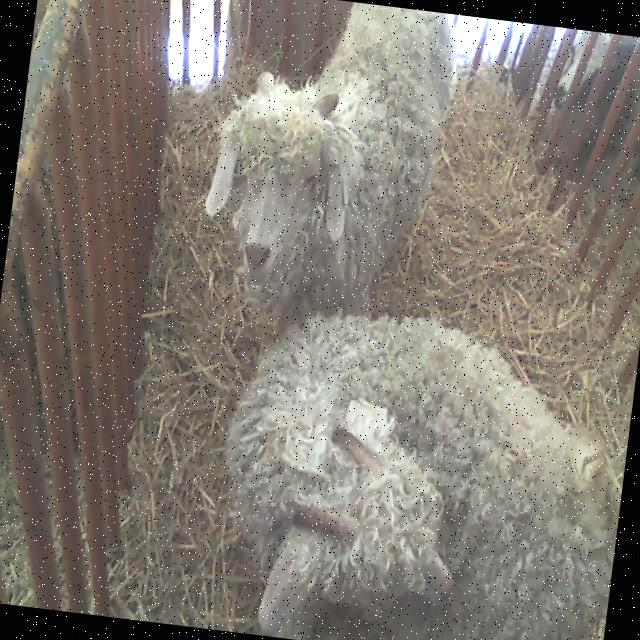sheep: (223, 313, 623, 640), (204, 17, 455, 332)
